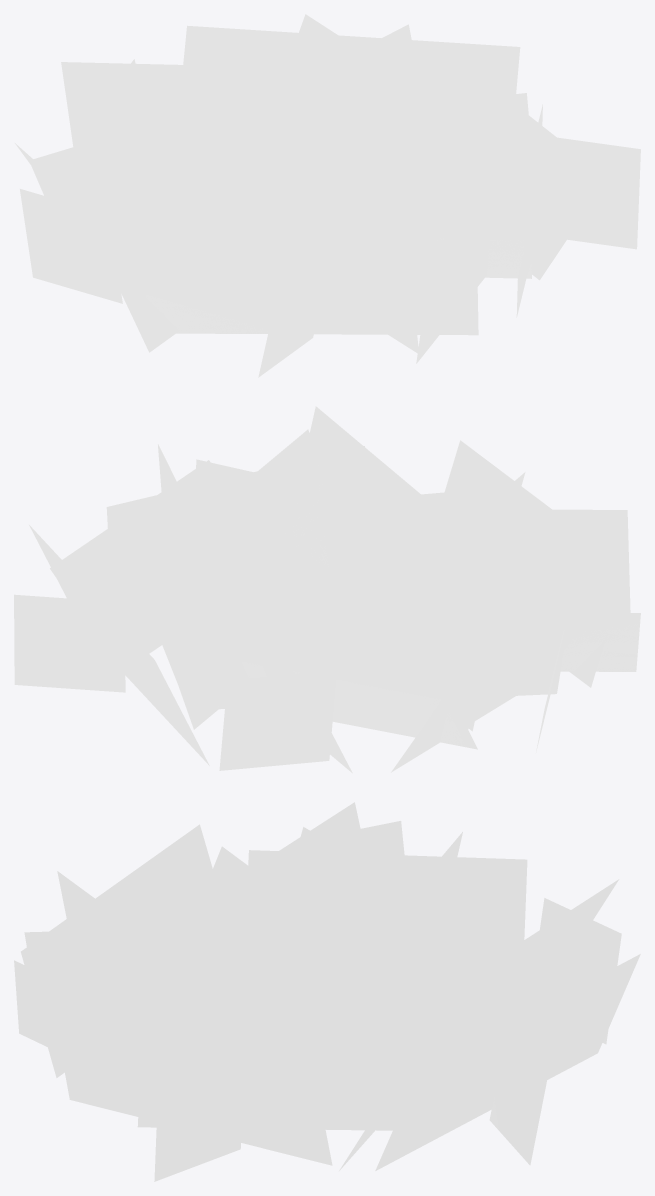
Rendered from TFP_Grass_Patch_03.fbx.
The picture shows the model from 3 angles, top to bottom: view 1: azimuth 30°, elevation 25°; view 2: azimuth 150°, elevation 25°; view 3: azimuth 270°, elevation 25°; orthographic projection. The views are drawn at different scales.
Visible parts, largest first — view 1: TFP_Grass_Patch_03_LOD0; view 2: TFP_Grass_Patch_03_LOD0; view 3: TFP_Grass_Patch_03_LOD0.
Boxes of the visible parts, x1,y1,x2,y2 form: TFP_Grass_Patch_03_LOD0: (15,14,640,377); TFP_Grass_Patch_03_LOD0: (14,406,640,773); TFP_Grass_Patch_03_LOD0: (14,802,640,1181).
Size of what is drawn, in the model's own units: 2.82 by 0.807 by 2.85.
